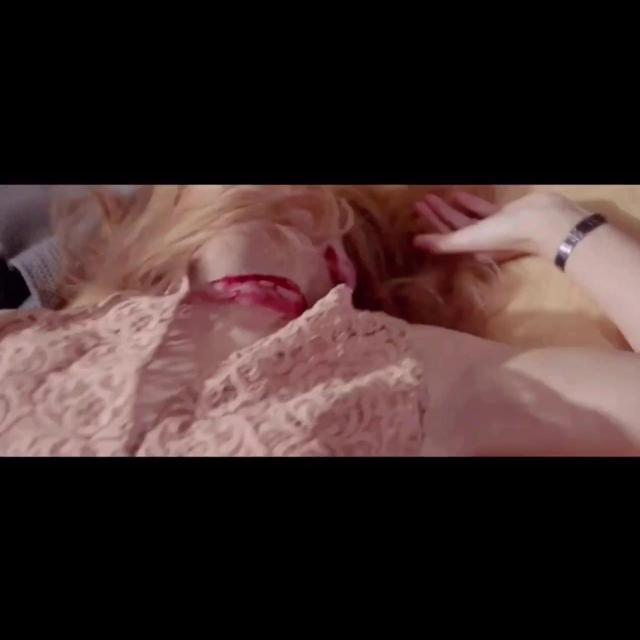blood: (204, 272, 310, 320), (324, 244, 356, 288)
